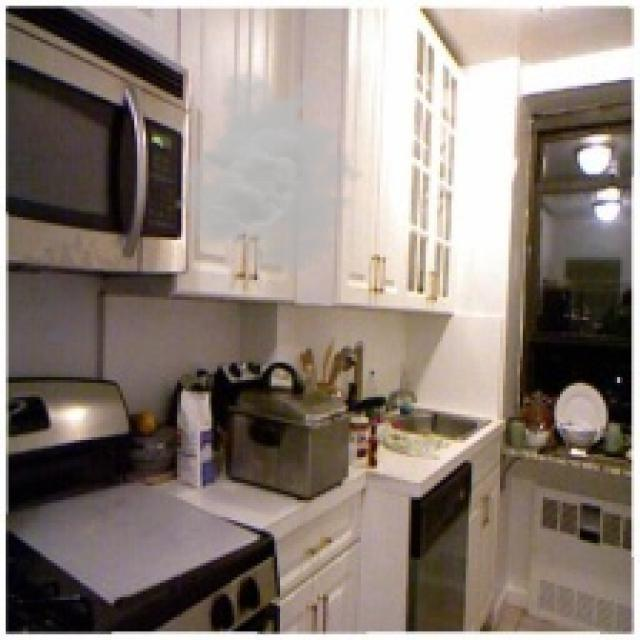Smoke: (174, 68, 374, 274)
